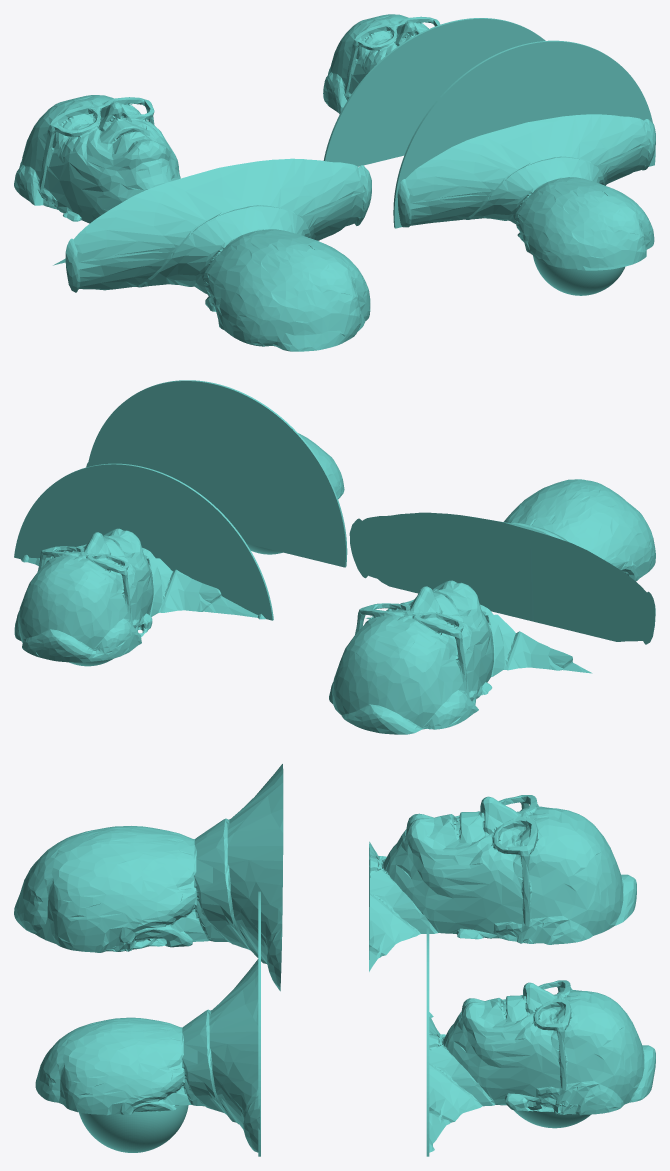
File: cut.glb
3 views of the same model, one above another, from view 1: azimuth 30°, elevation 25°; view 2: azimuth 150°, elevation 25°; view 3: azimuth 270°, elevation 25° (orthographic). The views are drawn at different scales.
Parts seen in each view (by area): view 1: Node8, Node12, Node14, Node4, Node22, Node20, Node16; view 2: Node8, Node14, Node4, Node22, Node20, Node12; view 3: Node8, Node4, Node20, Node12, Node16, Node22, Node24, Node14.
Part boxes in pixels (left/top/right/bottom): Node8: left=65, top=158, right=371, bottom=351; Node12: left=397, top=114, right=655, bottom=270; Node14: left=393, top=40, right=655, bottom=228; Node4: left=14, top=95, right=180, bottom=265; Node22: left=323, top=18, right=545, bottom=166; Node20: left=323, top=14, right=440, bottom=114; Node16: left=533, top=256, right=624, bottom=295; Node8: left=349, top=479, right=655, bottom=644; Node14: left=87, top=380, right=347, bottom=567; Node4: left=329, top=580, right=592, bottom=734; Node22: left=14, top=463, right=273, bottom=620; Node20: left=14, top=528, right=265, bottom=662; Node12: left=86, top=433, right=344, bottom=499; Node8: left=14, top=764, right=283, bottom=991; Node4: left=369, top=795, right=636, bottom=971; Node20: left=429, top=980, right=655, bottom=1152; Node12: left=35, top=959, right=259, bottom=1152; Node16: left=79, top=1105, right=188, bottom=1152; Node22: left=426, top=927, right=429, bottom=1156; Node24: left=513, top=1106, right=591, bottom=1128; Node14: left=258, top=891, right=260, bottom=1156.
Size of the model in its own units: 224 by 76.33 by 186.
